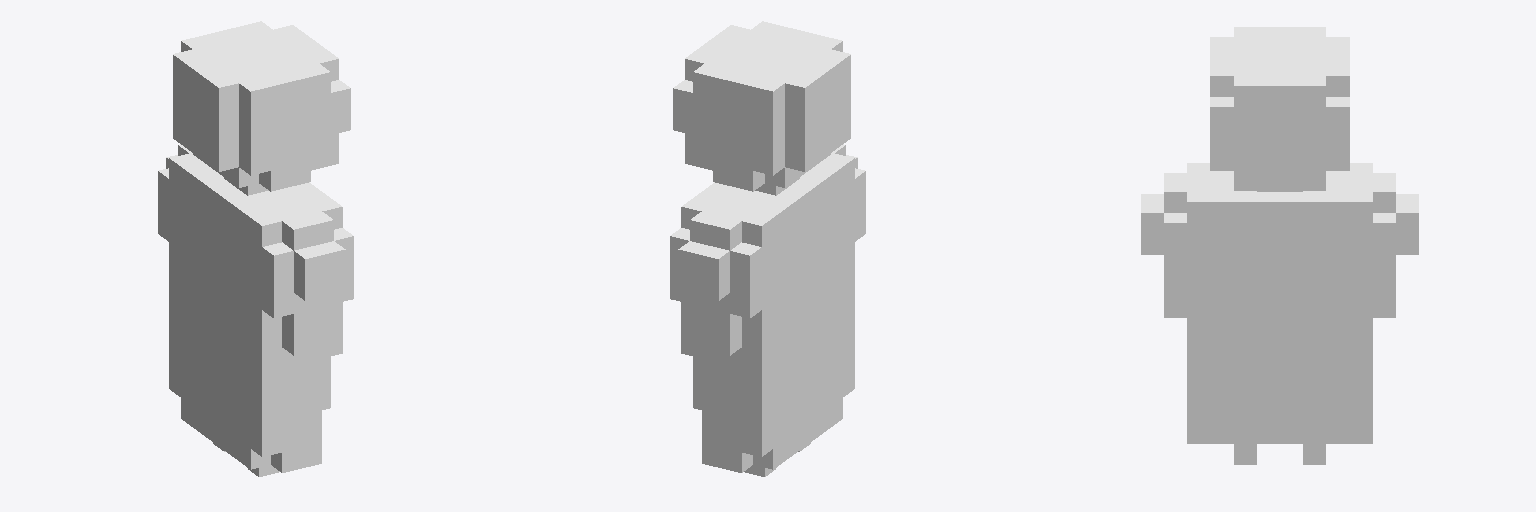
Rendered from cowboy_body.obj.
The picture shows the model from 3 angles: view 1: azimuth 30°, elevation 25°; view 2: azimuth 150°, elevation 25°; view 3: azimuth 270°, elevation 25°; orthographic projection.
Size of the model in its own units: 6 by 19 by 12.